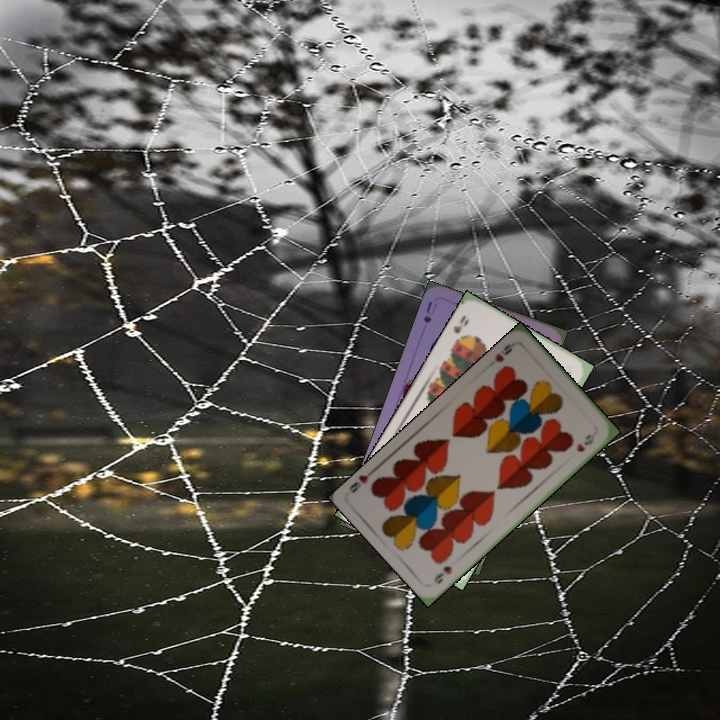H9: (490, 338, 518, 365), (429, 562, 455, 587)
S9: (449, 311, 471, 348)
SU: (419, 297, 440, 326)
